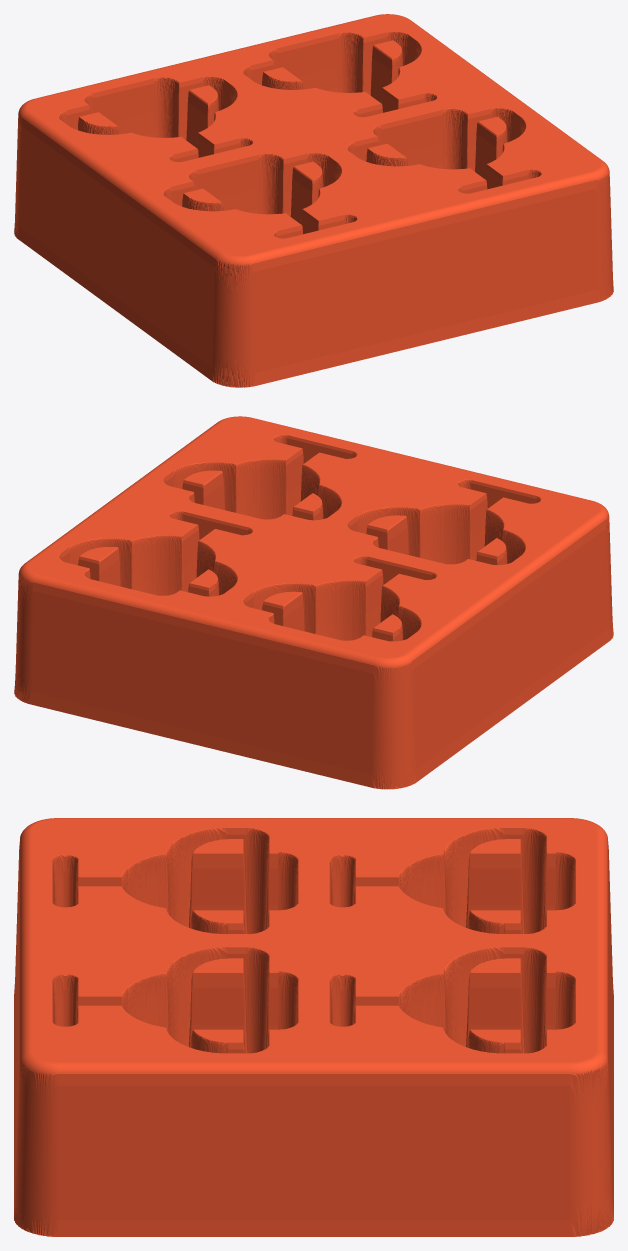
File: mold.glb
3 views of the same model, one above another, from view 1: azimuth 30°, elevation 25°; view 2: azimuth 150°, elevation 25°; view 3: azimuth 270°, elevation 25° (orthographic). The views are drawn at different scales.
Parts seen in each view (by area): view 1: geometry_0; view 2: geometry_0; view 3: geometry_0.
Part boxes in pixels (x1=…): geometry_0: x1=14, y1=14, x2=613, y2=387; geometry_0: x1=14, y1=416, x2=613, y2=789; geometry_0: x1=14, y1=818, x2=613, y2=1236.
Bounding box in the file's own units: 0.1248 × 0.0378 × 0.1227.
